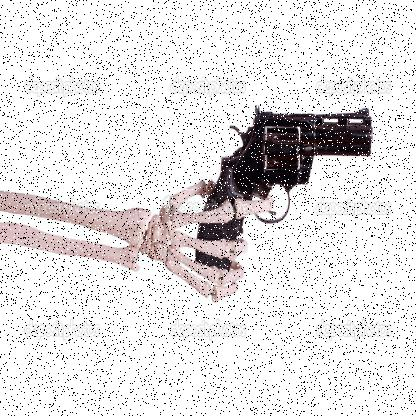pistol: (193, 101, 375, 279)
